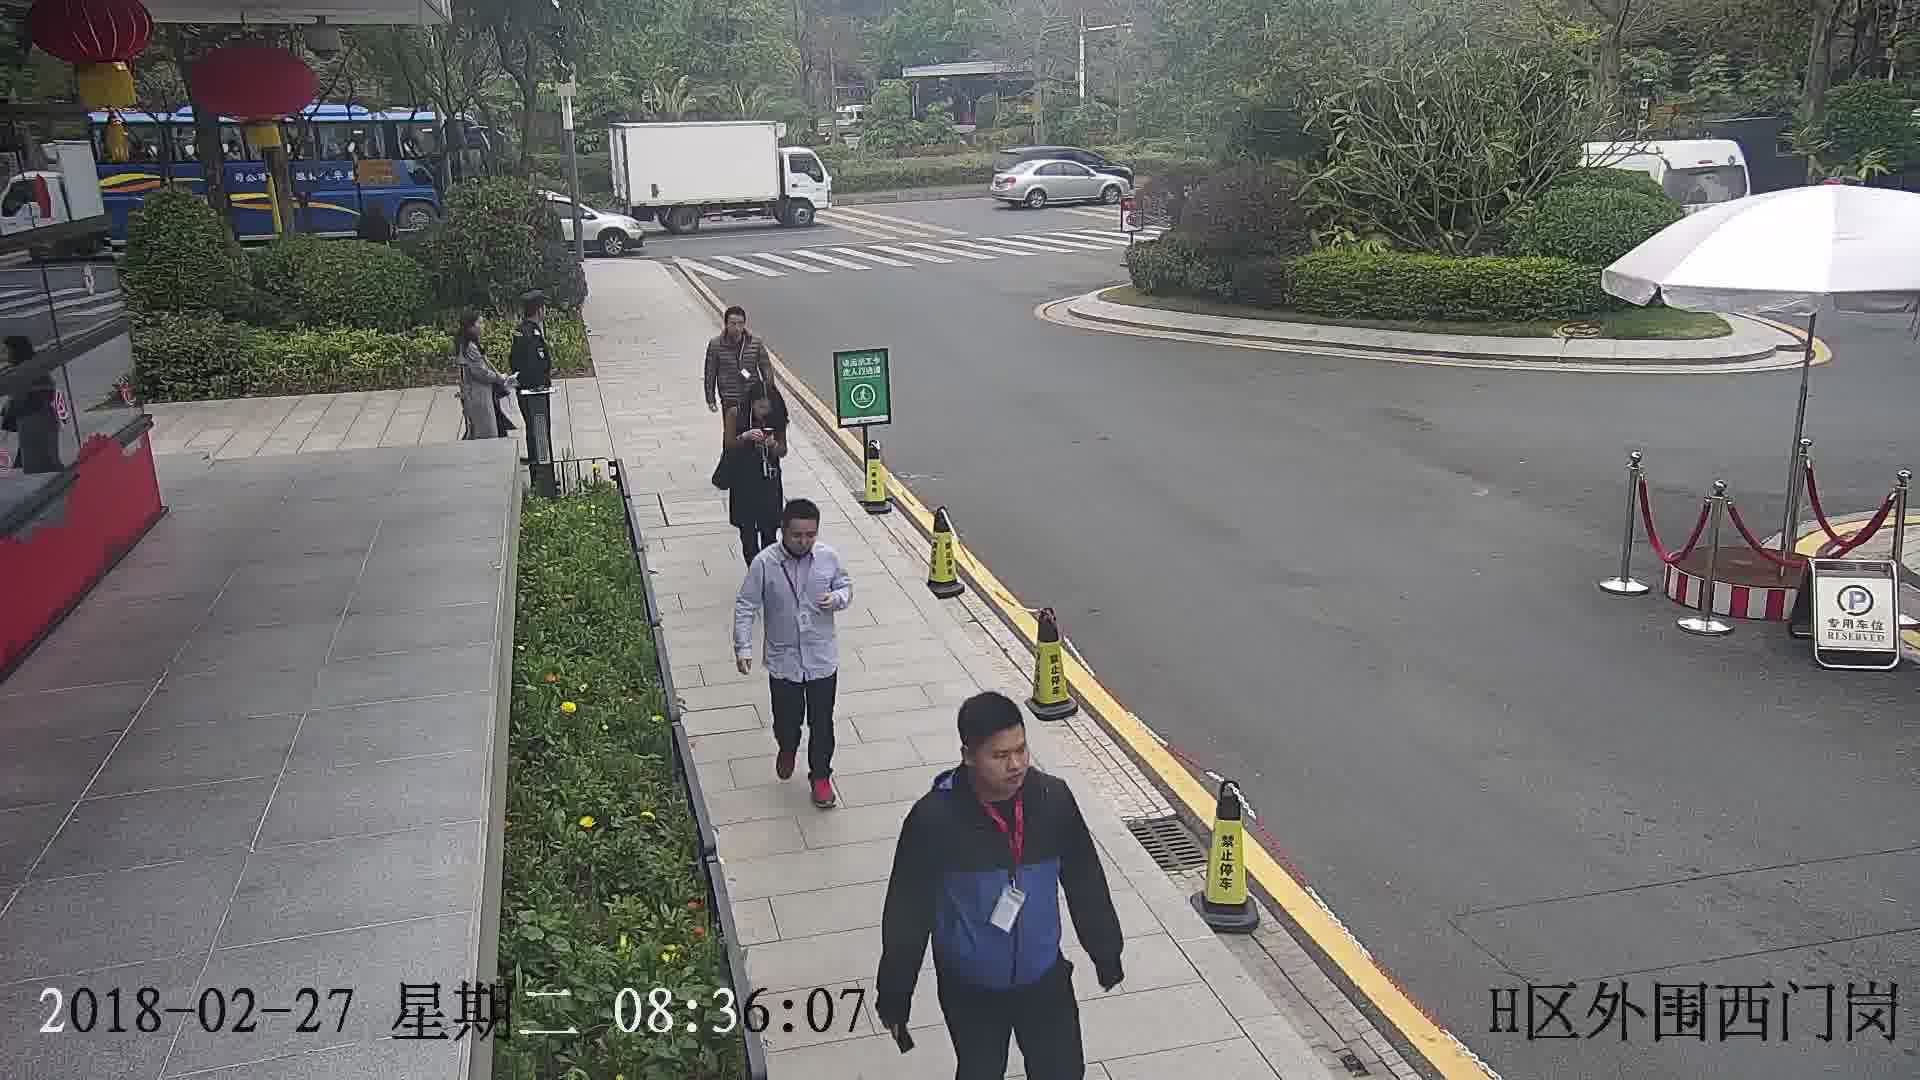face: (966, 724, 1032, 790), (780, 516, 817, 562)
person: (908, 692, 1076, 834), (751, 497, 842, 592), (728, 376, 787, 435), (704, 304, 766, 355), (514, 291, 553, 344), (454, 312, 491, 359)
